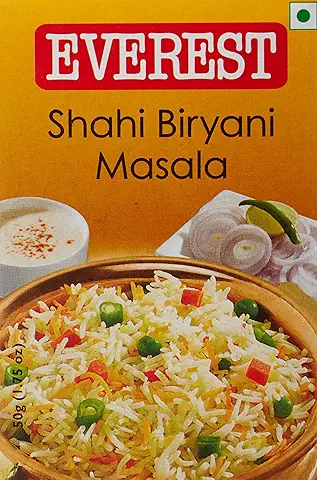Biryani: (1, 2, 317, 480)
